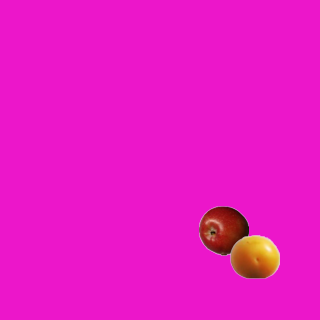Apple Braeburn: (198, 205, 248, 255)
Cherry Wax Yellow: (229, 231, 279, 281)
